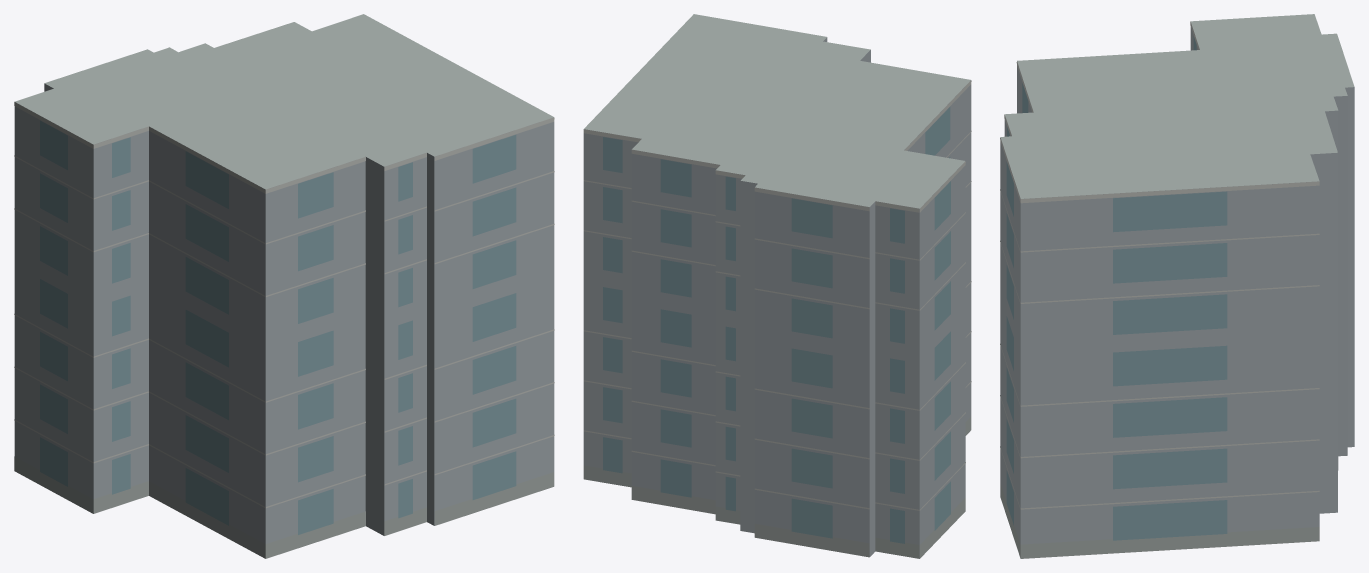
The model's file is survey-upis-32735367.glb.
The picture shows the model from 3 angles, left to right: view 1: azimuth 30°, elevation 25°; view 2: azimuth 150°, elevation 25°; view 3: azimuth 270°, elevation 25°; orthographic projection. The views are drawn at different scales.
Visible parts, largest first — view 1: survey-upis-32735367.tmp; view 2: survey-upis-32735367.tmp; view 3: survey-upis-32735367.tmp.
Boxes of the visible parts, bbox=[...] form: survey-upis-32735367.tmp: bbox=[14, 14, 554, 558]; survey-upis-32735367.tmp: bbox=[583, 14, 971, 558]; survey-upis-32735367.tmp: bbox=[1000, 14, 1354, 558].
Size of the model in its own units: 22.62 by 20.5 by 18.31.
